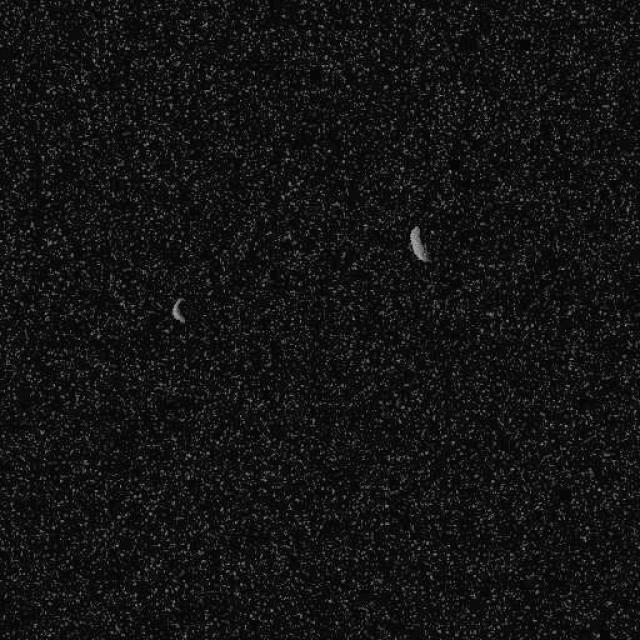D2: (408, 224, 432, 262), (170, 296, 186, 324)
